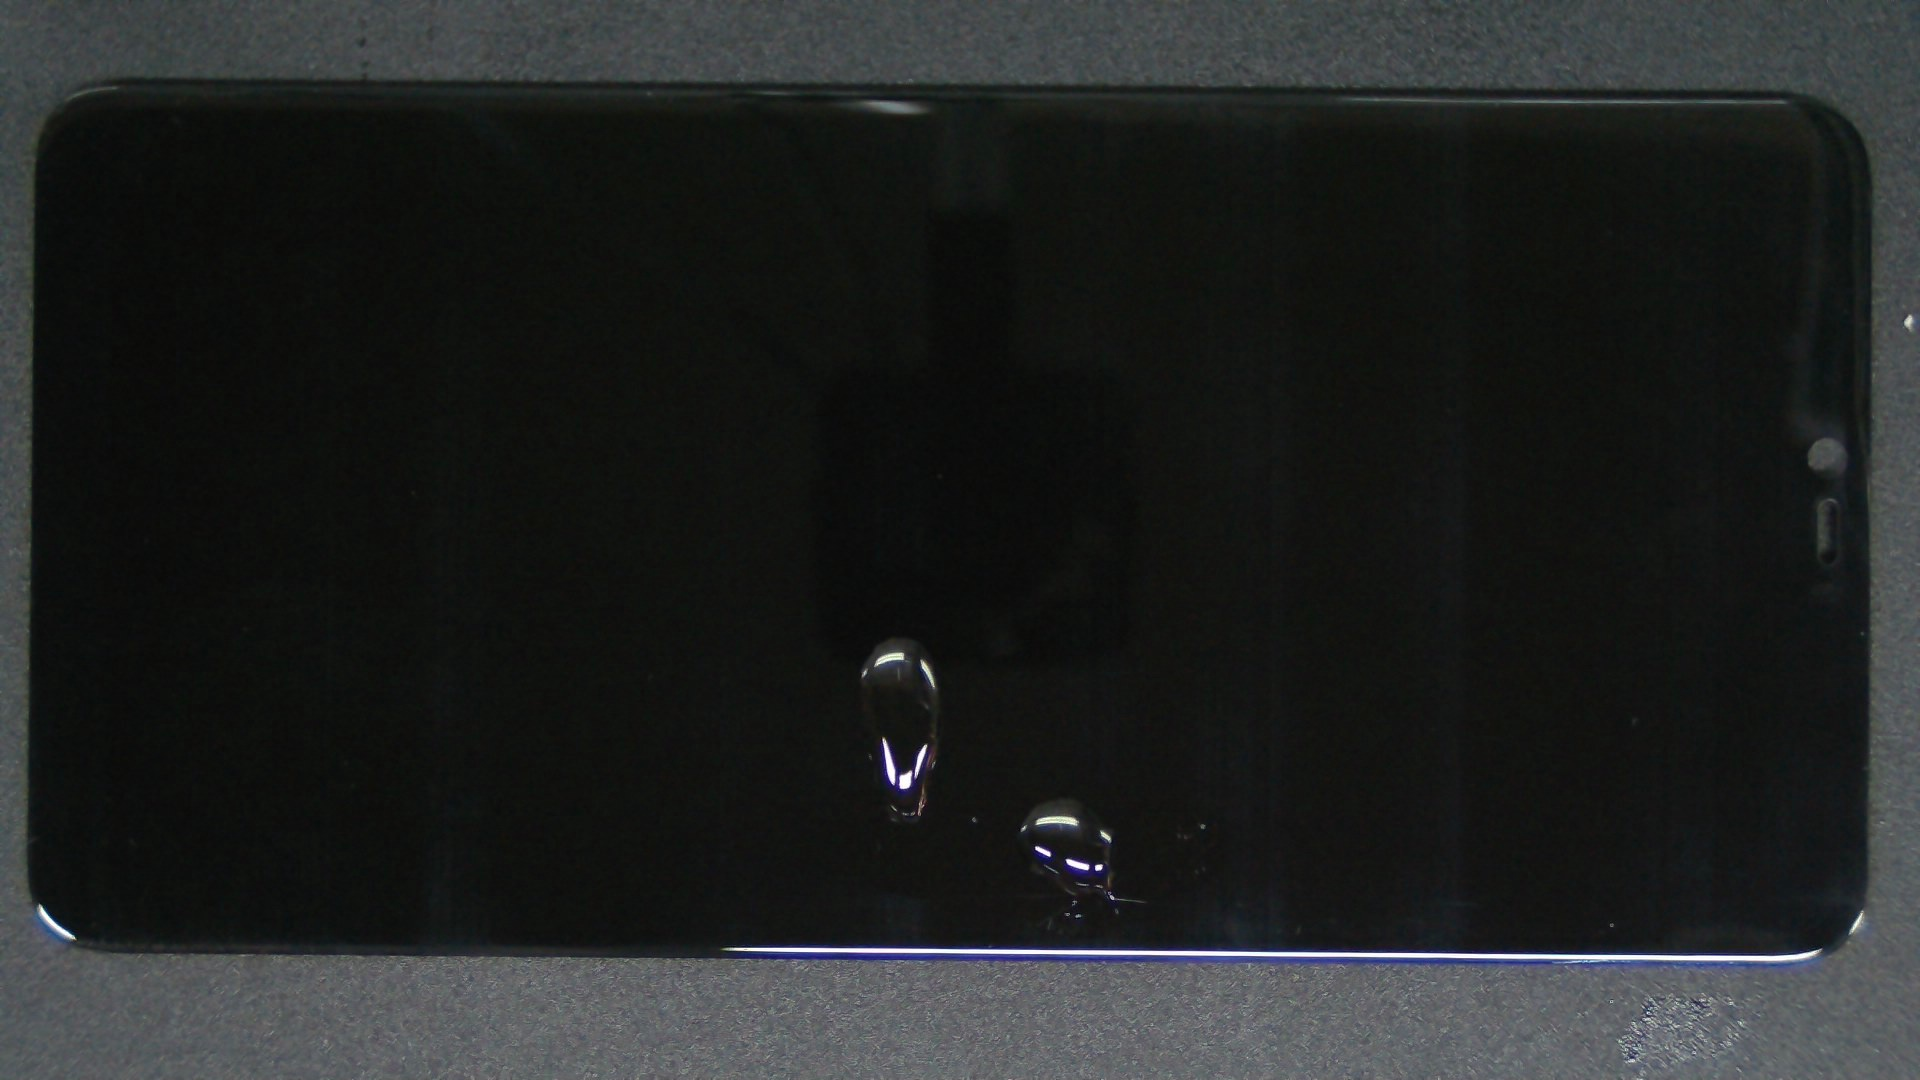oil: (529, 400, 1584, 1080), (446, 318, 1332, 957)
